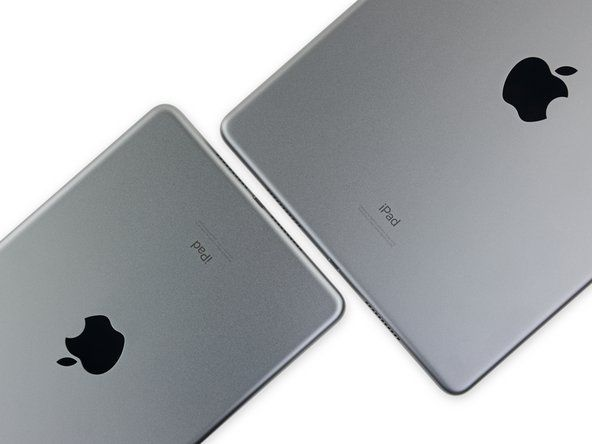apple: (488, 36, 581, 124), (40, 310, 137, 383)
